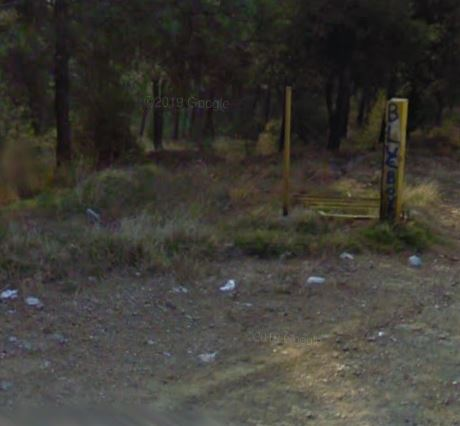trash: (1, 286, 46, 308), (301, 273, 334, 289), (221, 276, 241, 298), (195, 349, 220, 366), (340, 246, 358, 264), (407, 251, 424, 270)
